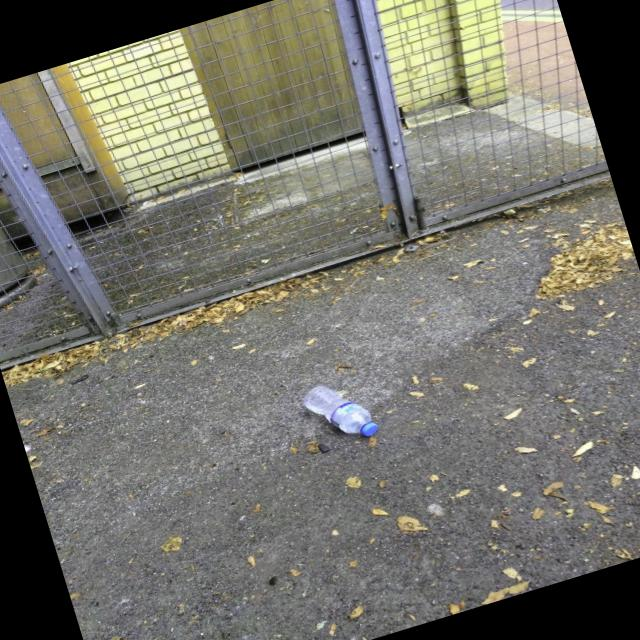less trash: (302, 385, 378, 436)
